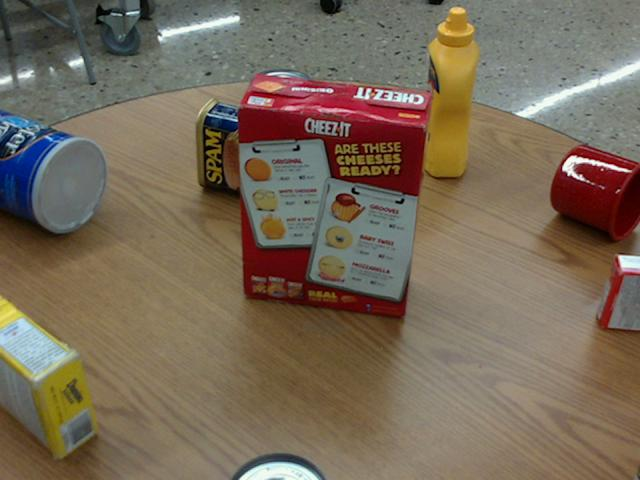cracker_box: (238, 73, 432, 314)
gelatin_box: (599, 257, 639, 332)
master_chef_can: (0, 108, 109, 232)
mug: (551, 144, 639, 240)
mustard_bottle: (420, 7, 479, 175)
potted_meat_can: (196, 96, 284, 198)
sugar_box: (0, 290, 99, 455)
tomato_soup_can: (233, 452, 329, 479)
tuna_fish_can: (251, 66, 315, 119)
